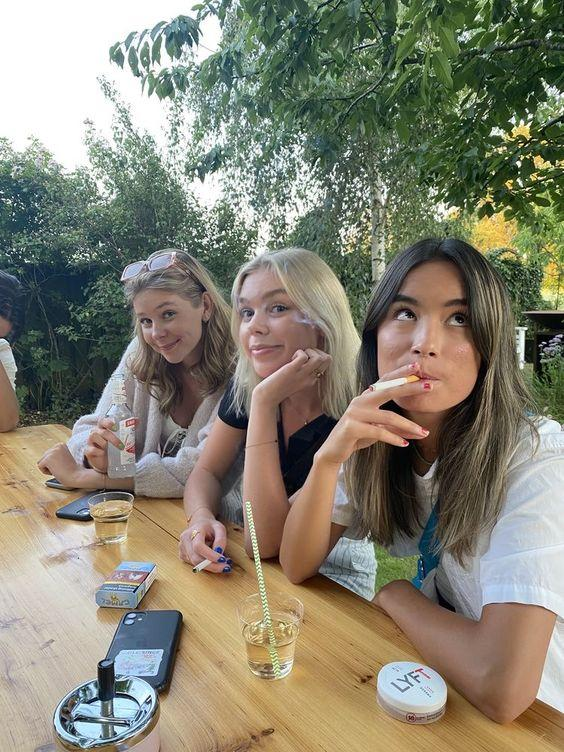cigarette: (368, 374, 422, 391), (192, 558, 212, 574)
